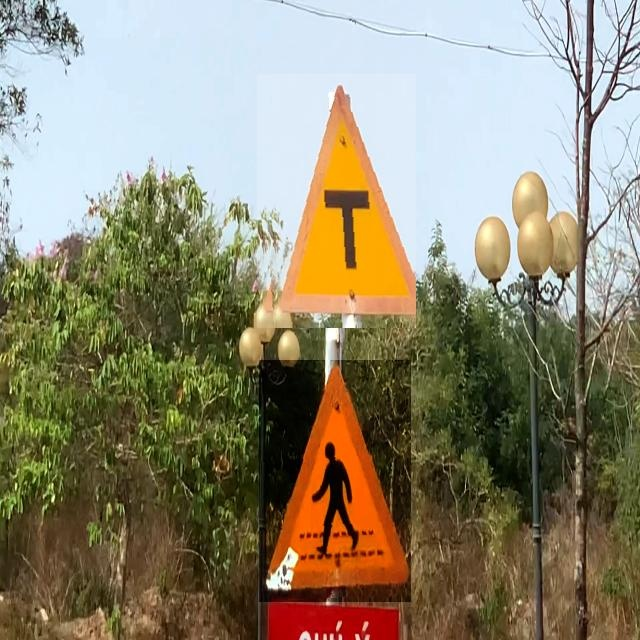bien_nguy_hiem: (257, 74, 416, 328), (259, 360, 411, 602)
